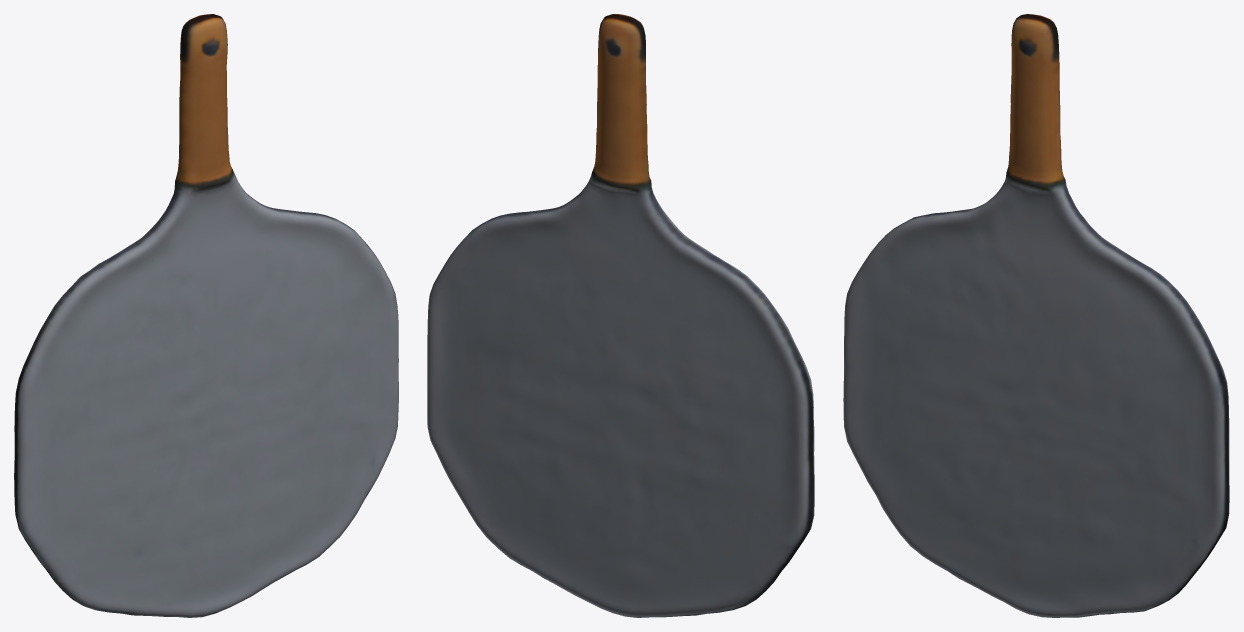
Rendered from PizzaPeel.fbx.
The picture shows the model from 3 angles, left to right: view 1: azimuth 30°, elevation 25°; view 2: azimuth 150°, elevation 25°; view 3: azimuth 330°, elevation 25°; orthographic projection.
Visible parts, largest first — view 1: mesh; view 2: mesh; view 3: mesh.
Boxes of the visible parts, x1,y1,x2,y2 form: mesh: [14, 14, 398, 617]; mesh: [427, 14, 814, 617]; mesh: [843, 14, 1229, 617].
Size of the model in its own units: 66.93 by 99.93 by 5.45.
